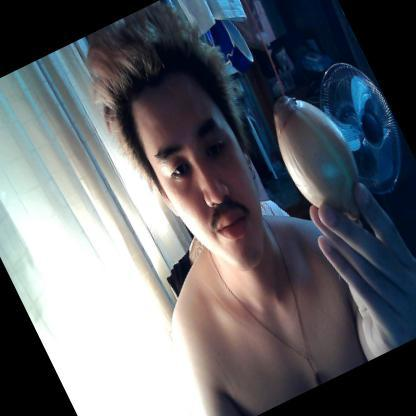onion: (254, 71, 384, 234)
